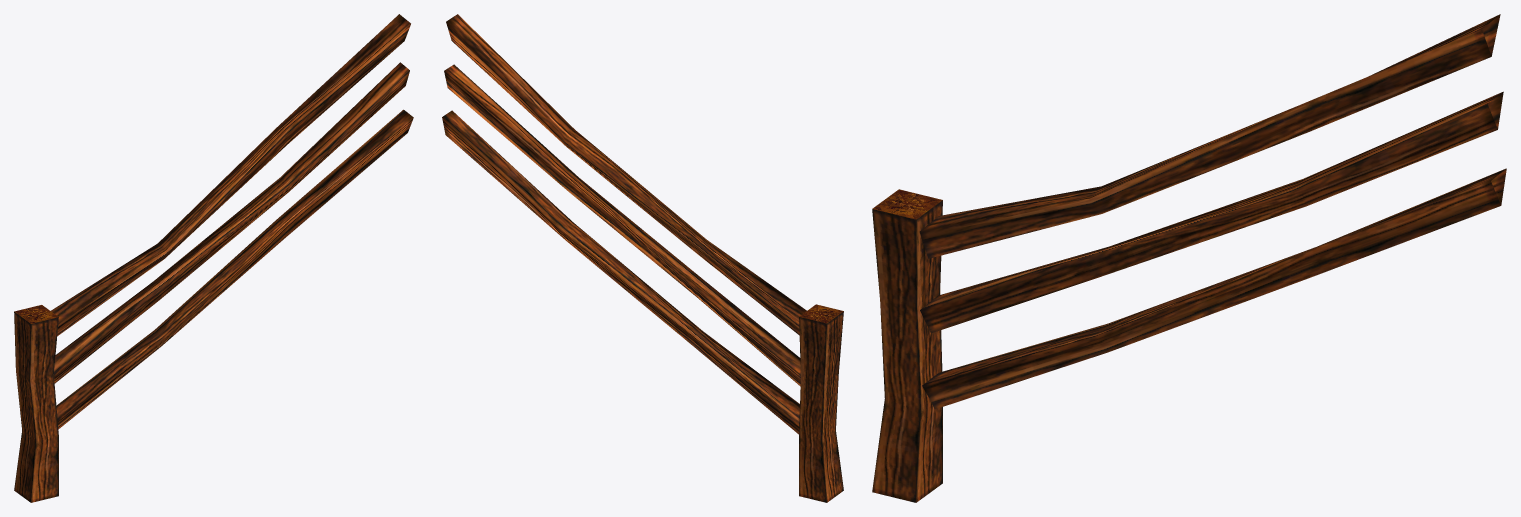
File: INST_HTOWN_FENCEBRN30DEG.obj
3 views of the same model, side by side, from view 1: azimuth 30°, elevation 25°; view 2: azimuth 150°, elevation 25°; view 3: azimuth 330°, elevation 25° (orthographic). The views are drawn at different scales.
Parts seen in each view (by area): view 1: ceBrn30Deg_Lod1; view 2: ceBrn30Deg_Lod1; view 3: ceBrn30Deg_Lod1.
Boxes of the visible parts, box(x1,y1,x2,y2) form: ceBrn30Deg_Lod1: box(14, 14, 413, 502); ceBrn30Deg_Lod1: box(442, 14, 843, 502); ceBrn30Deg_Lod1: box(872, 14, 1506, 502).
Bounding box in the file's own units: 302 × 287 × 23.72.
